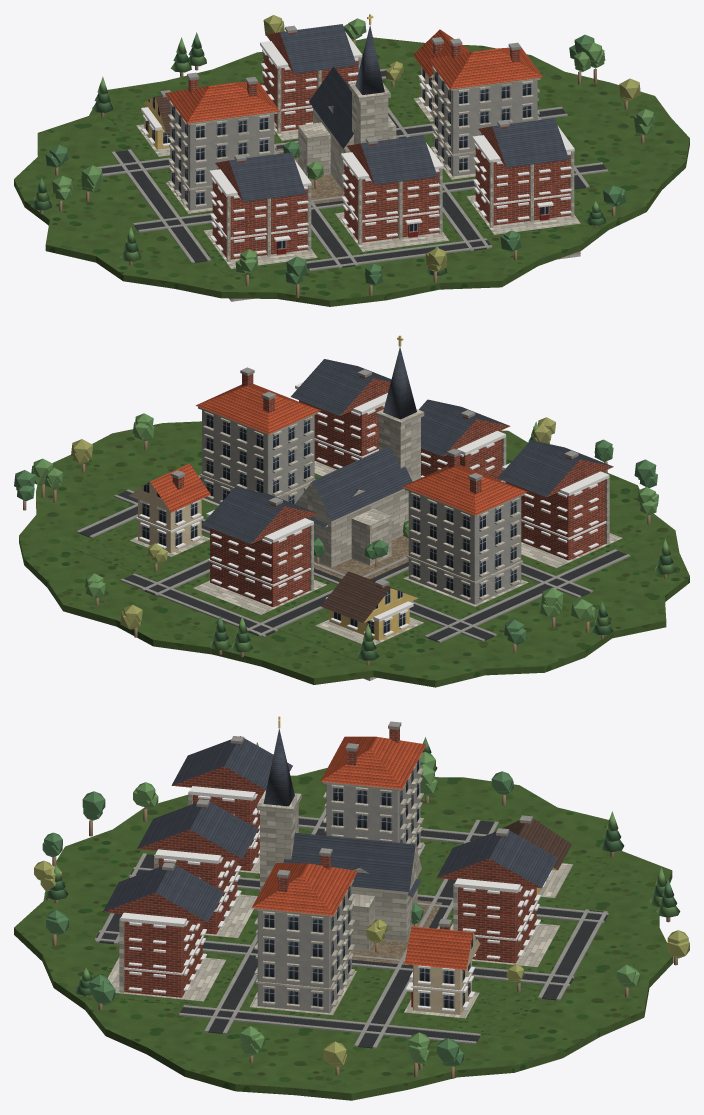
The model's file is city_west_medium.gltf.
3 renders of one model, top to bottom at view 1: azimuth 30°, elevation 25°; view 2: azimuth 150°, elevation 25°; view 3: azimuth 270°, elevation 25°, orthographic. The views are drawn at different scales.
Parts seen in each view (by area): view 1: city_west_medium; view 2: city_west_medium; view 3: city_west_medium.
Boxes of the visible parts, x1,y1,x2,y2 form: city_west_medium: (14, 14, 689, 306); city_west_medium: (14, 335, 689, 687); city_west_medium: (14, 716, 689, 1100).
Size of the model in its own units: 3.17 by 1.07 by 2.73.
Materials: 19 (13 with a texture image).
